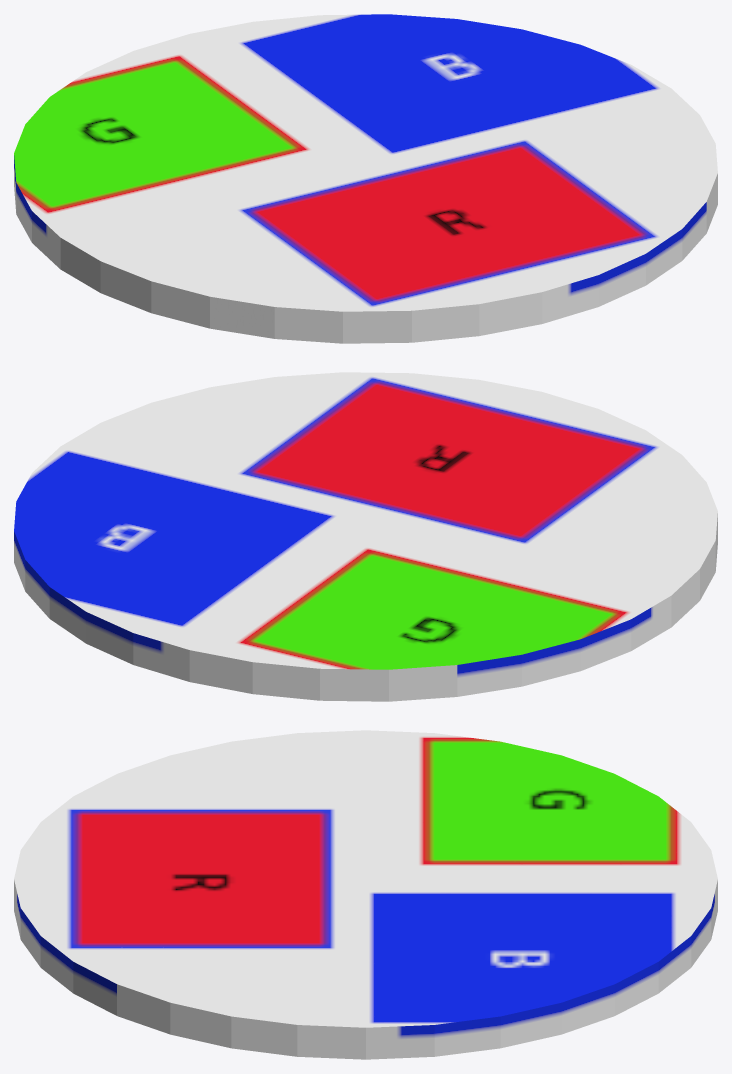
Rendered from disk.obj.
3 renders of one model, top to bottom at view 1: azimuth 30°, elevation 25°; view 2: azimuth 150°, elevation 25°; view 3: azimuth 270°, elevation 25°, orthographic.
Parts seen in each view (by area): view 1: Cylinder; view 2: Cylinder; view 3: Cylinder.
Part boxes in pixels (x1=…): Cylinder: x1=14, y1=14, x2=717, y2=343; Cylinder: x1=14, y1=372, x2=717, y2=701; Cylinder: x1=14, y1=730, x2=717, y2=1059.
Bounding box in the file's own units: 10 × 0.5 × 10.
